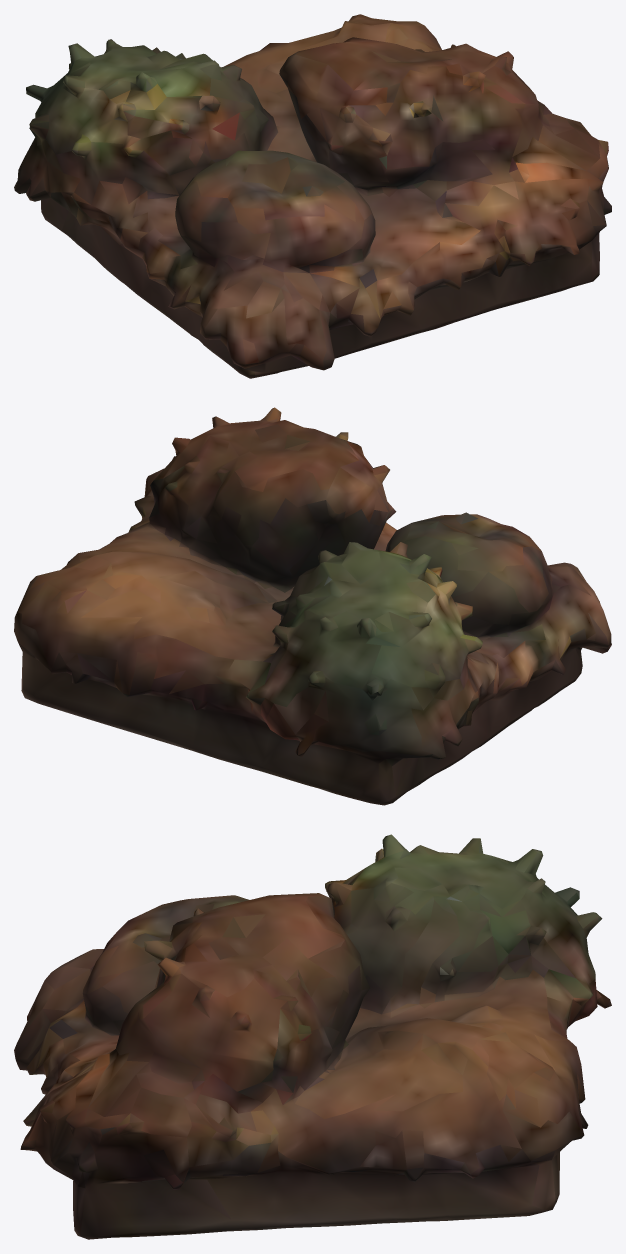
The model's file is m22_folhas_ouricos.glb.
3 views of the same model, one above another, from view 1: azimuth 30°, elevation 25°; view 2: azimuth 150°, elevation 25°; view 3: azimuth 270°, elevation 25° (orthographic). The views are drawn at different scales.
Visible parts, largest first — view 1: m22_folhas_ouricos; view 2: m22_folhas_ouricos; view 3: m22_folhas_ouricos.
Part boxes in pixels (x1,y1,x2,y2): m22_folhas_ouricos: (14, 14, 611, 378); m22_folhas_ouricos: (14, 407, 611, 805); m22_folhas_ouricos: (14, 834, 611, 1239).
Bounding box in the file's own units: 1.1 × 0.5567 × 1.13.
1 material, 1 textured.
